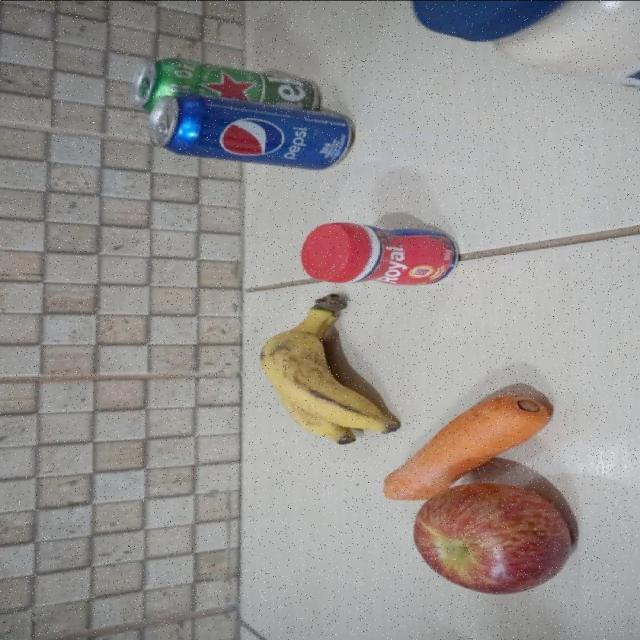Apple: (414, 480, 576, 595)
Banana: (259, 292, 400, 445)
BeerCan: (130, 56, 326, 112)
Carrot: (382, 393, 554, 501)
Mayonnaise: (407, 0, 640, 92)
SodaCan: (146, 93, 354, 171)
Yeast: (302, 220, 459, 286)
